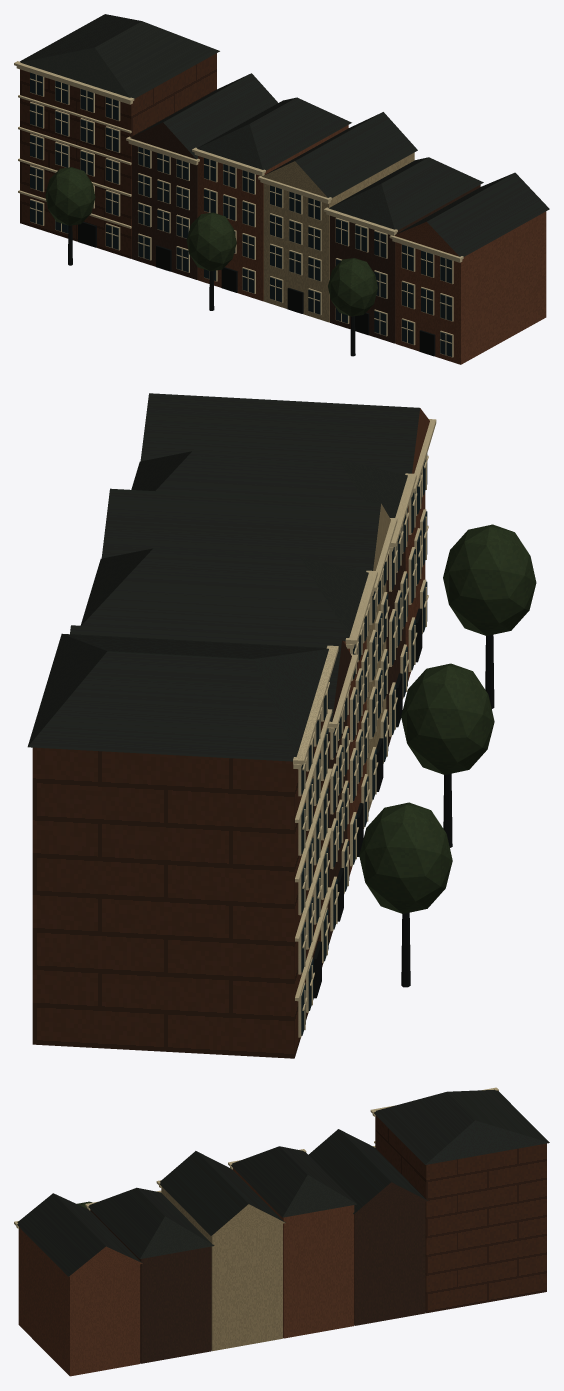
3 renders of one model, top to bottom at view 1: azimuth 30°, elevation 25°; view 2: azimuth 150°, elevation 25°; view 3: azimuth 270°, elevation 25°, orthographic. The views are drawn at different scales.
Visible parts, largest first — view 1: bierhaven-3, bierhaven-7, bierhaven-5, bierhaven-4, bierhaven-2, bierhaven-6, bierhaven-1, bierhaven-8, bierhaven-0; view 2: bierhaven-3, bierhaven-2, bierhaven-1, bierhaven-4, bierhaven-5, bierhaven-0, bierhaven-6, bierhaven-7, bierhaven-8; view 3: bierhaven-3, bierhaven-7, bierhaven-2, bierhaven-6, bierhaven-8.
Boxes of the visible parts, x1=… form: bierhaven-3: x1=20, y1=14, x2=549, y2=256; bierhaven-7: x1=198, y1=125, x2=546, y2=364; bierhaven-5: x1=30, y1=72, x2=451, y2=356; bierhaven-4: x1=14, y1=61, x2=463, y2=357; bierhaven-2: x1=20, y1=53, x2=216, y2=258; bierhaven-6: x1=130, y1=122, x2=480, y2=343; bierhaven-1: x1=45, y1=167, x2=377, y2=316; bierhaven-8: x1=262, y1=152, x2=414, y2=322; bierhaven-0: x1=68, y1=221, x2=435, y2=356; bierhaven-3: x1=27, y1=393, x2=420, y2=761; bierhaven-2: x1=32, y1=720, x2=327, y2=1058; bierhaven-1: x1=359, y1=524, x2=536, y2=913; bierhaven-4: x1=293, y1=419, x2=436, y2=1037; bierhaven-5: x1=301, y1=454, x2=427, y2=1035; bierhaven-0: x1=313, y1=608, x2=494, y2=998; bierhaven-6: x1=327, y1=549, x2=405, y2=944; bierhaven-7: x1=343, y1=408, x2=429, y2=876; bierhaven-8: x1=366, y1=503, x2=390, y2=811; bierhaven-3: x1=17, y1=1089, x2=549, y2=1276; bierhaven-7: x1=18, y1=1168, x2=354, y2=1376; bierhaven-2: x1=375, y1=1115, x2=546, y2=1313; bierhaven-6: x1=90, y1=1182, x2=428, y2=1363; bierhaven-8: x1=161, y1=1187, x2=285, y2=1351.
Size of the model in its own units: 37.33 by 20 by 56.85.
Materials: 9 (9 with a texture image).
